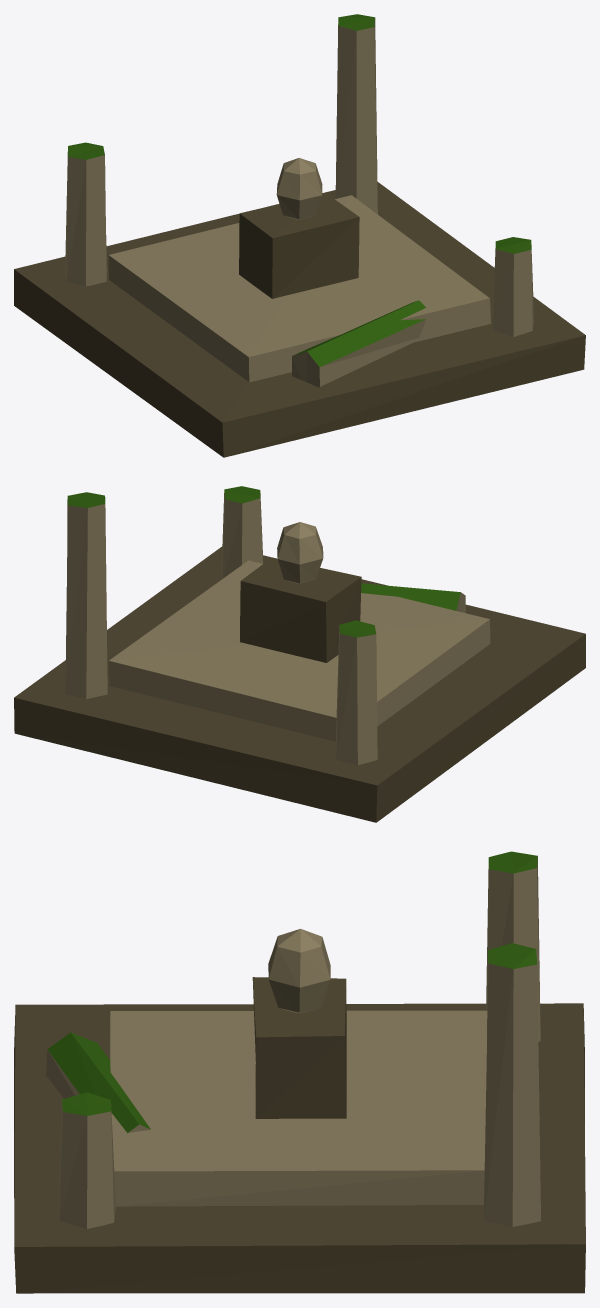
Rendered from world_landmark_ruins_altar.fbx.
3 renders of one model, top to bottom at view 1: azimuth 30°, elevation 25°; view 2: azimuth 150°, elevation 25°; view 3: azimuth 270°, elevation 25°, orthographic. The views are drawn at different scales.
Visible parts, largest first — view 1: world_landmark_ruins_altar; view 2: world_landmark_ruins_altar; view 3: world_landmark_ruins_altar.
Boxes of the visible parts, left/top/right/bottom form: world_landmark_ruins_altar: left=14, top=14, right=585, bottom=457; world_landmark_ruins_altar: left=14, top=486, right=585, bottom=822; world_landmark_ruins_altar: left=14, top=851, right=585, bottom=1293.
Bounding box in the file's own units: 1504 × 898 × 1506.
